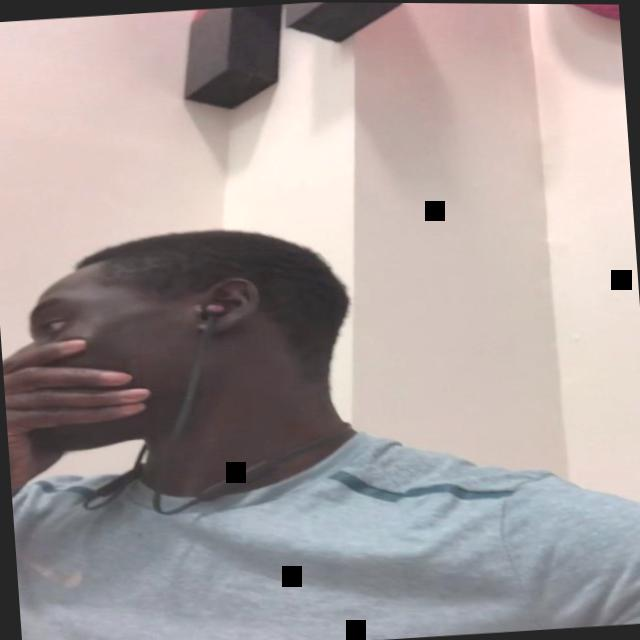NO-Mask: (0, 255, 245, 454)
